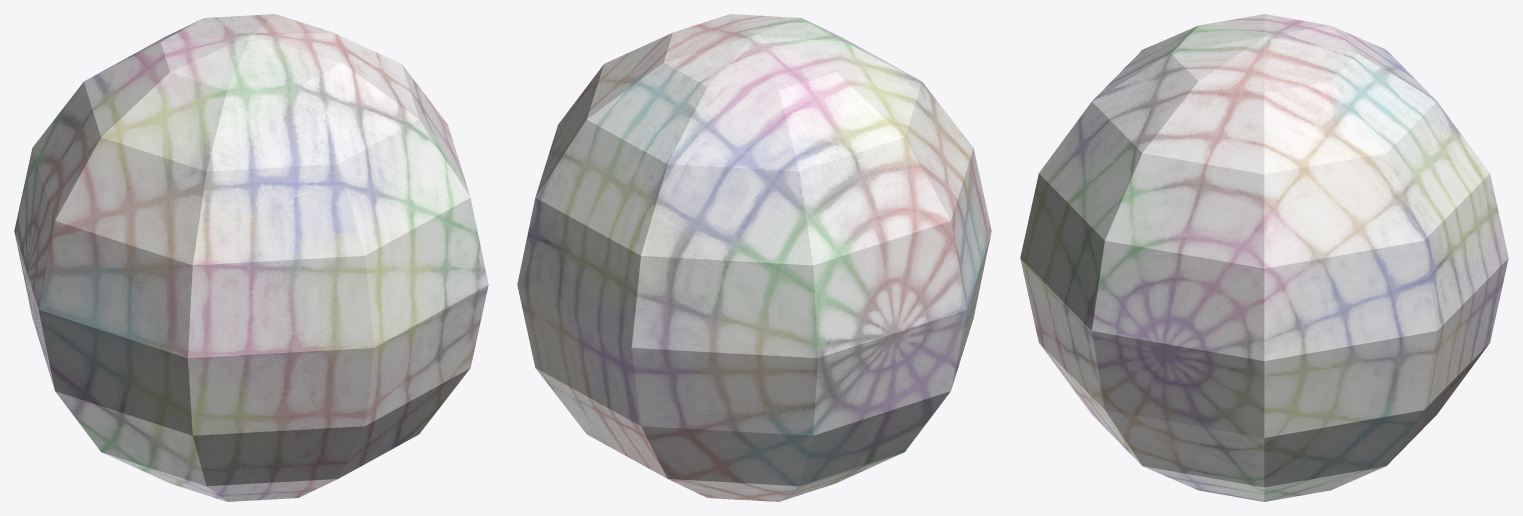
Rendered from Disco_Ball.obj.
3 renders of one model, left to right at view 1: azimuth 30°, elevation 25°; view 2: azimuth 150°, elevation 25°; view 3: azimuth 270°, elevation 25°, orthographic.
Parts seen in each view (by area): view 1: UV_Sphere_UV_Sphere; view 2: UV_Sphere_UV_Sphere; view 3: UV_Sphere_UV_Sphere.
Part boxes in pixels (<box>): UV_Sphere_UV_Sphere: <box>14,14,488,501</box>; UV_Sphere_UV_Sphere: <box>517,14,991,501</box>; UV_Sphere_UV_Sphere: <box>1020,14,1508,501</box>.
Size of the model in its own units: 1 by 1 by 1.
Materials: 1 (1 with a texture image).
